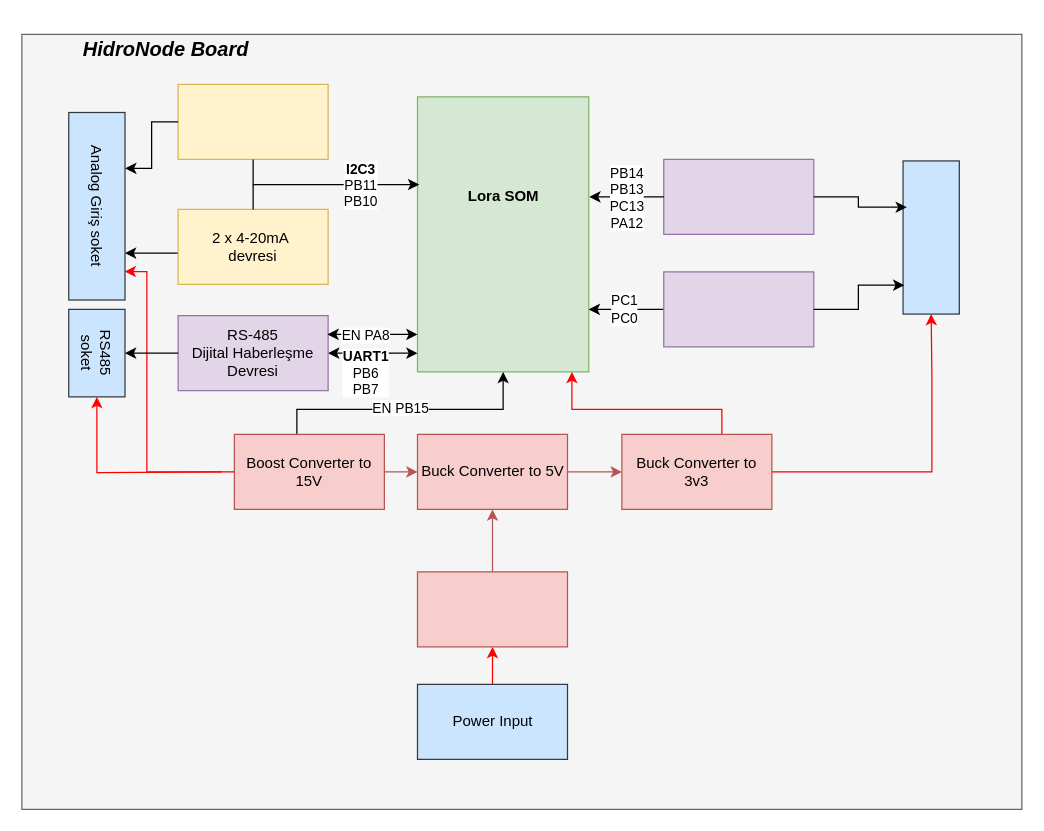
Image size: 1044x831. Some labels were removed from this diagram. The centre of each missing label's shape, as x and y in pixels:
2 x Dijital Giriş devresi: [738,309]
4 x Dijital Çıkış devresi: [738,196]
Dijital ınput & output soket: [930,237]
Panel Okuma Devresi: [252,121]
Protection & Filters: [492,609]
